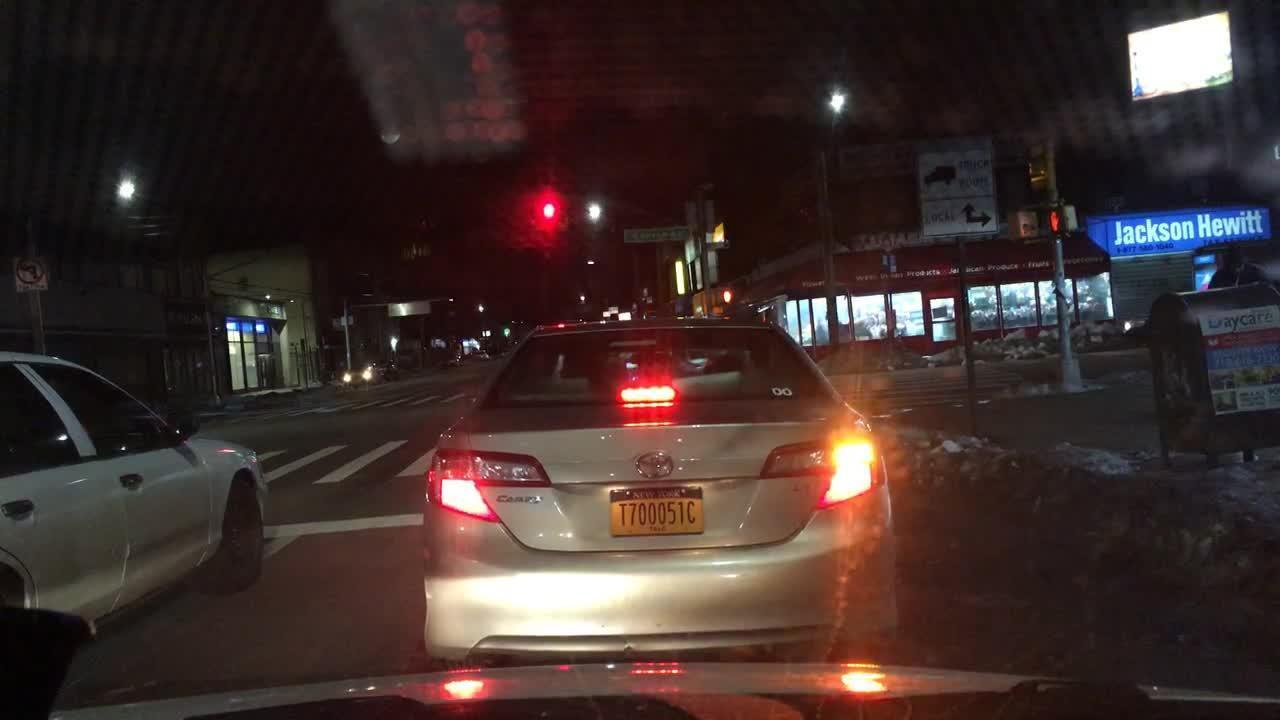Toyota: (619, 446, 691, 487)
